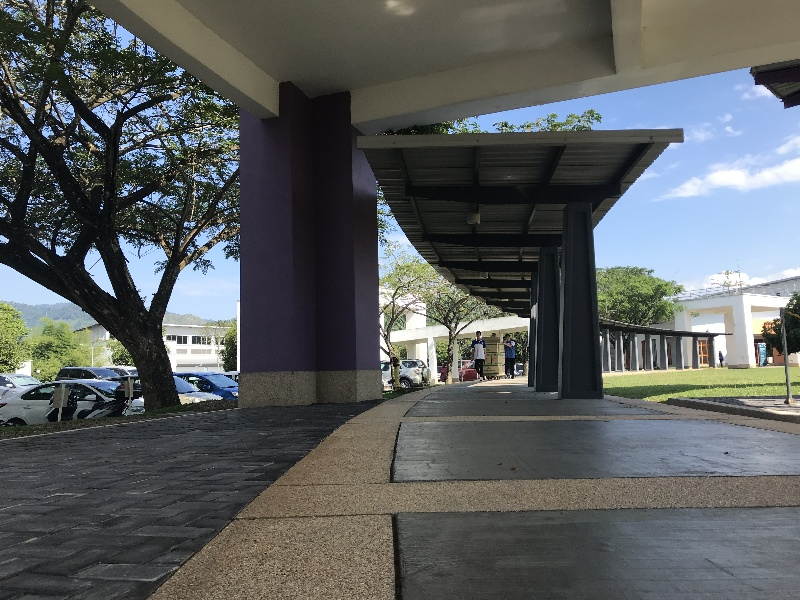Block D Pillar 6: (9, 9, 800, 574)
pillar: (225, 78, 399, 425), (546, 204, 611, 412)
